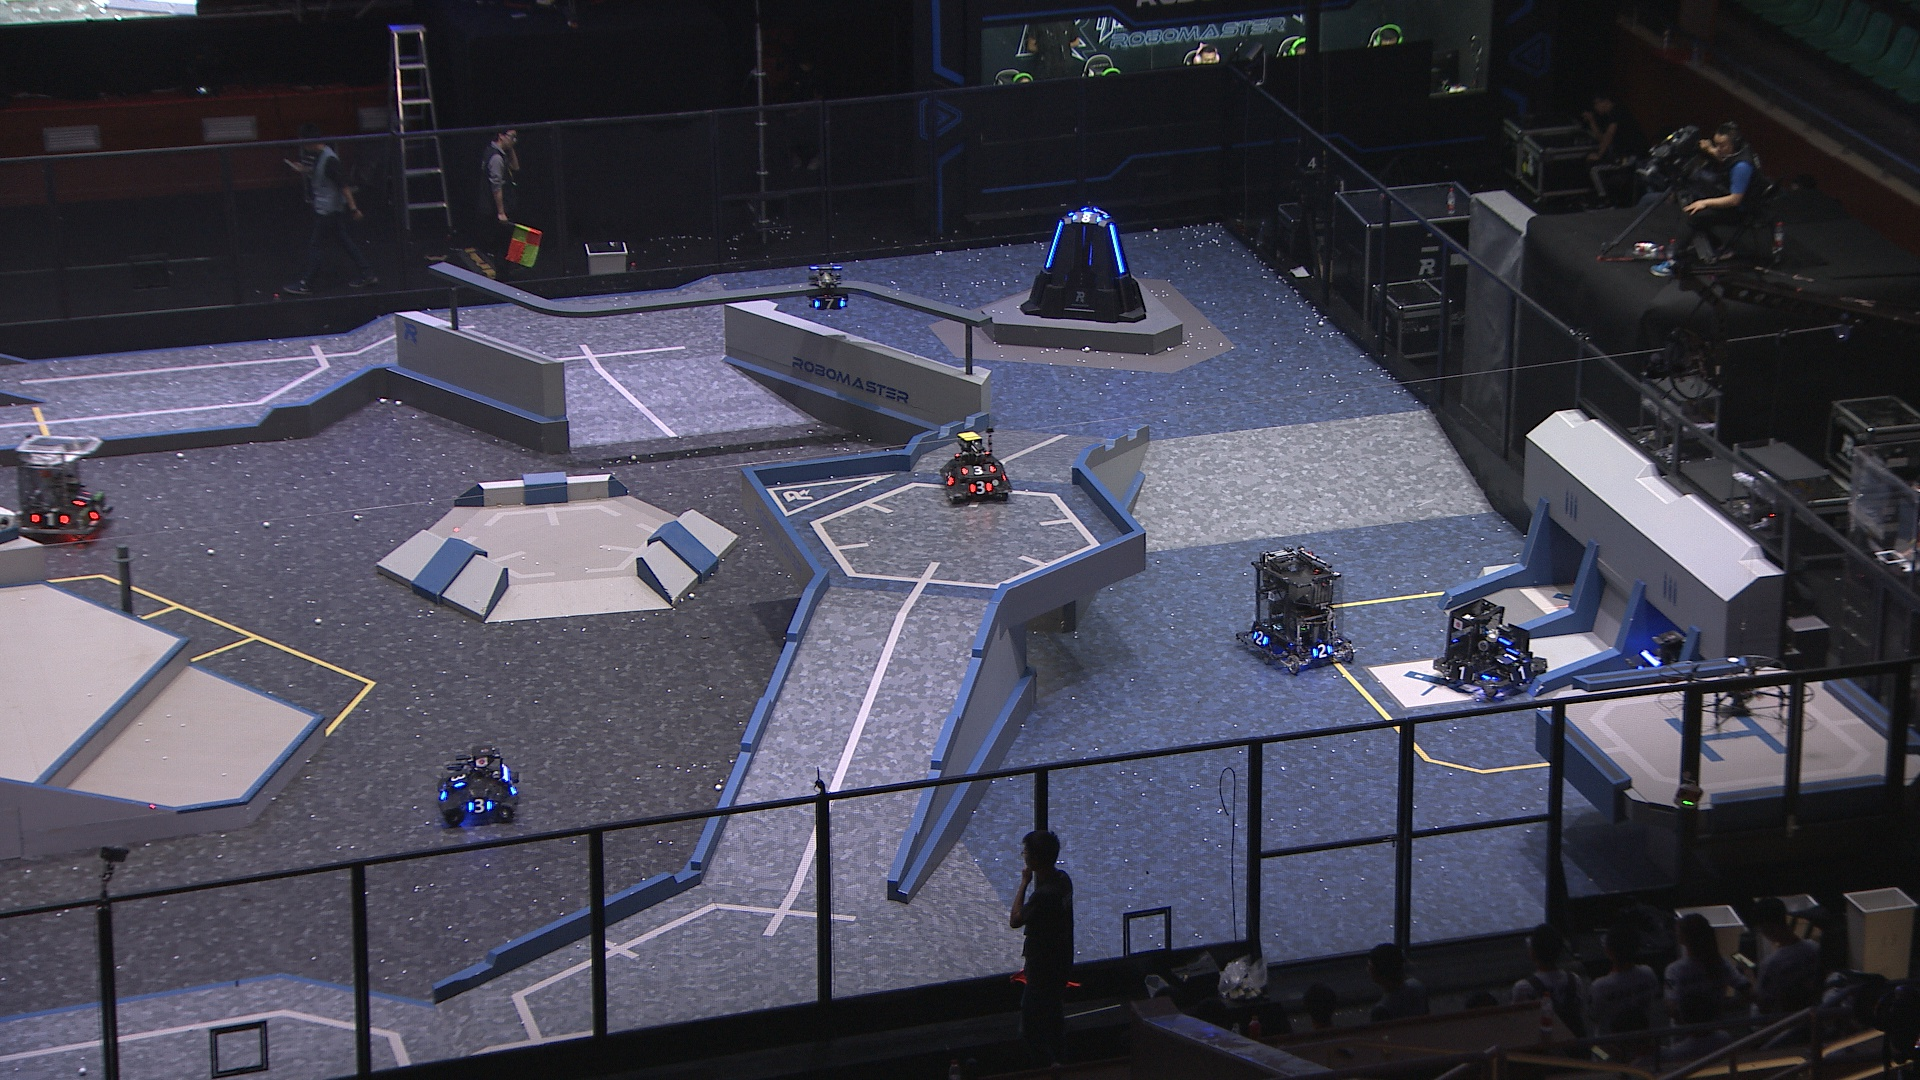armor: (1044, 218, 1065, 272), (1106, 223, 1127, 273), (30, 509, 69, 527), (1447, 665, 1480, 683), (960, 462, 998, 477), (1505, 666, 1536, 683), (465, 796, 495, 815), (1069, 210, 1102, 225), (1494, 646, 1520, 666), (73, 488, 94, 510), (814, 297, 847, 310), (1309, 642, 1335, 659), (968, 480, 993, 495), (448, 770, 467, 789), (1250, 629, 1269, 646), (436, 781, 451, 802), (90, 501, 105, 520), (942, 469, 956, 488)
base: (1021, 207, 1149, 322)
car: (1232, 543, 1356, 674), (11, 431, 120, 543), (1433, 600, 1549, 700), (430, 742, 520, 825), (942, 429, 1011, 506)
watcher: (804, 262, 851, 310)
